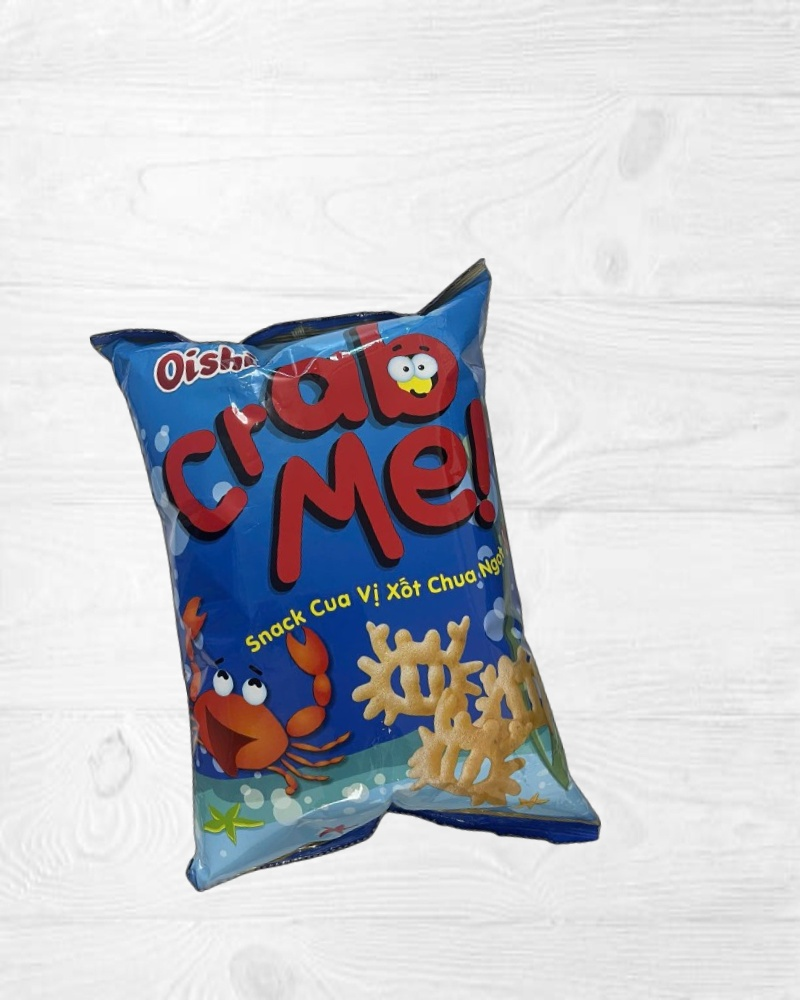Snack cua: (89, 256, 603, 906)
